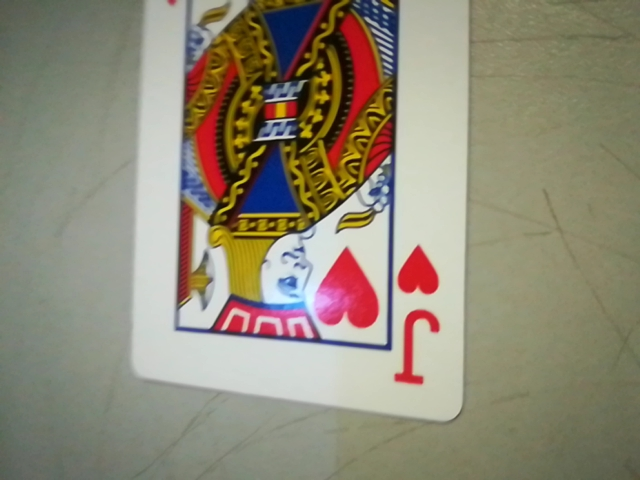hx j: (388, 238, 454, 397)
